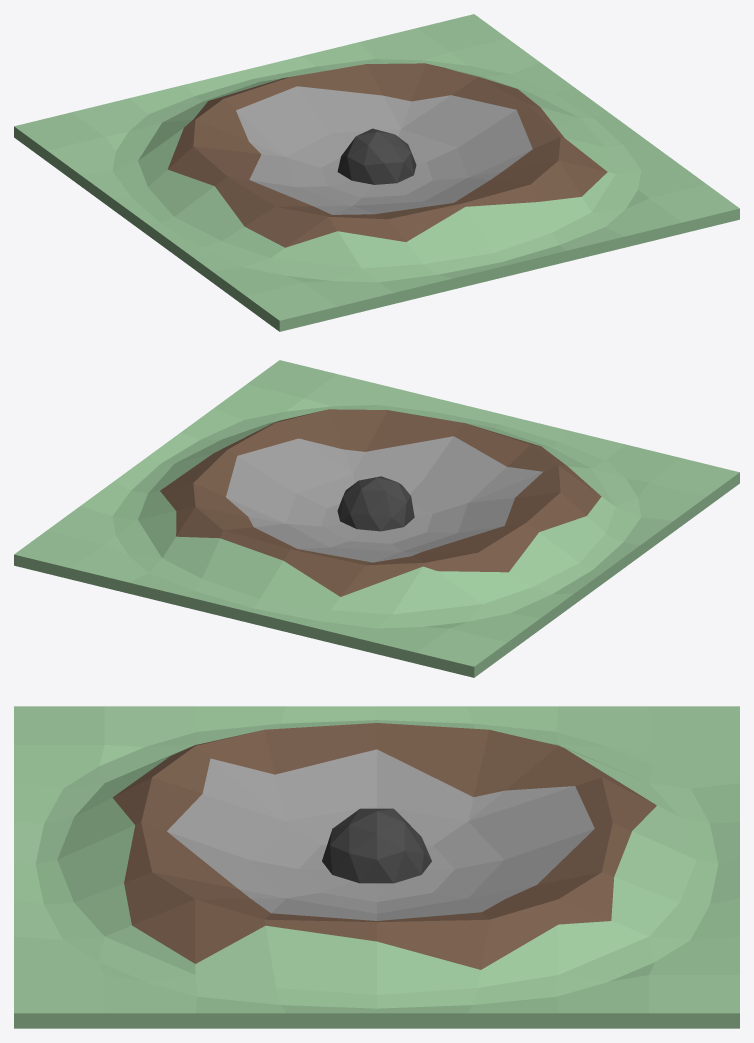
Rendered from Crater I.fbx.
The picture shows the model from 3 angles, top to bottom: view 1: azimuth 30°, elevation 25°; view 2: azimuth 150°, elevation 25°; view 3: azimuth 270°, elevation 25°; orthographic projection. The views are drawn at different scales.
Parts seen in each view (by area): view 1: Crater I; view 2: Crater I; view 3: Crater I.
Boxes of the visible parts, bbox=[...] form: Crater I: bbox=[14, 14, 739, 331]; Crater I: bbox=[14, 360, 739, 677]; Crater I: bbox=[14, 706, 739, 1028].
Bounding box in the file's own units: 1600 × 155 × 1600.
